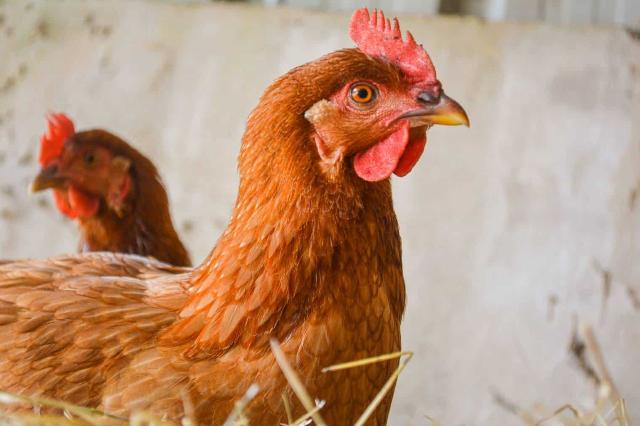Chicken: (0, 6, 469, 426), (28, 109, 195, 269)
